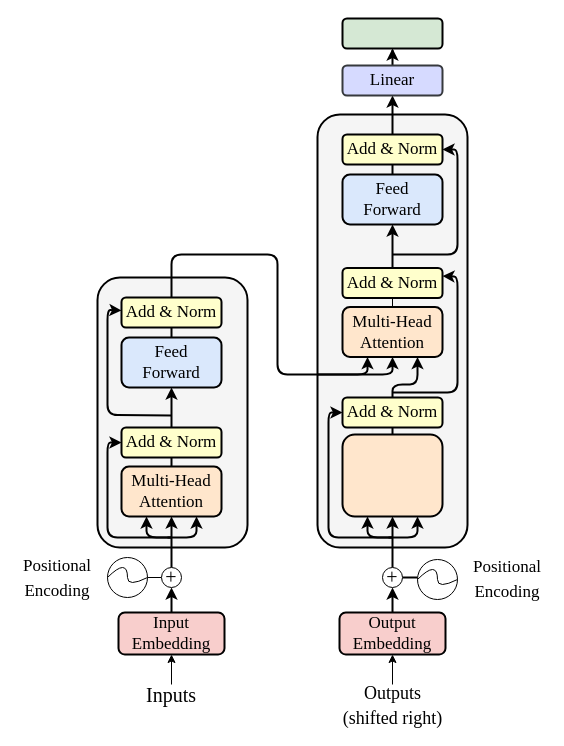
Some shapes in this 564 by 746 pixel diagram are drawn without their labels. Each missing label, with the box of its shape:
Masked Multi-Head Attention: (341, 433, 443, 517)
Softmax: (341, 17, 443, 49)
